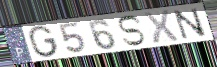5: (57, 21, 87, 53)
6: (88, 18, 118, 52)
G: (28, 24, 60, 59)
N: (171, 7, 209, 41)
S: (116, 14, 147, 47)
X: (142, 9, 181, 46)
